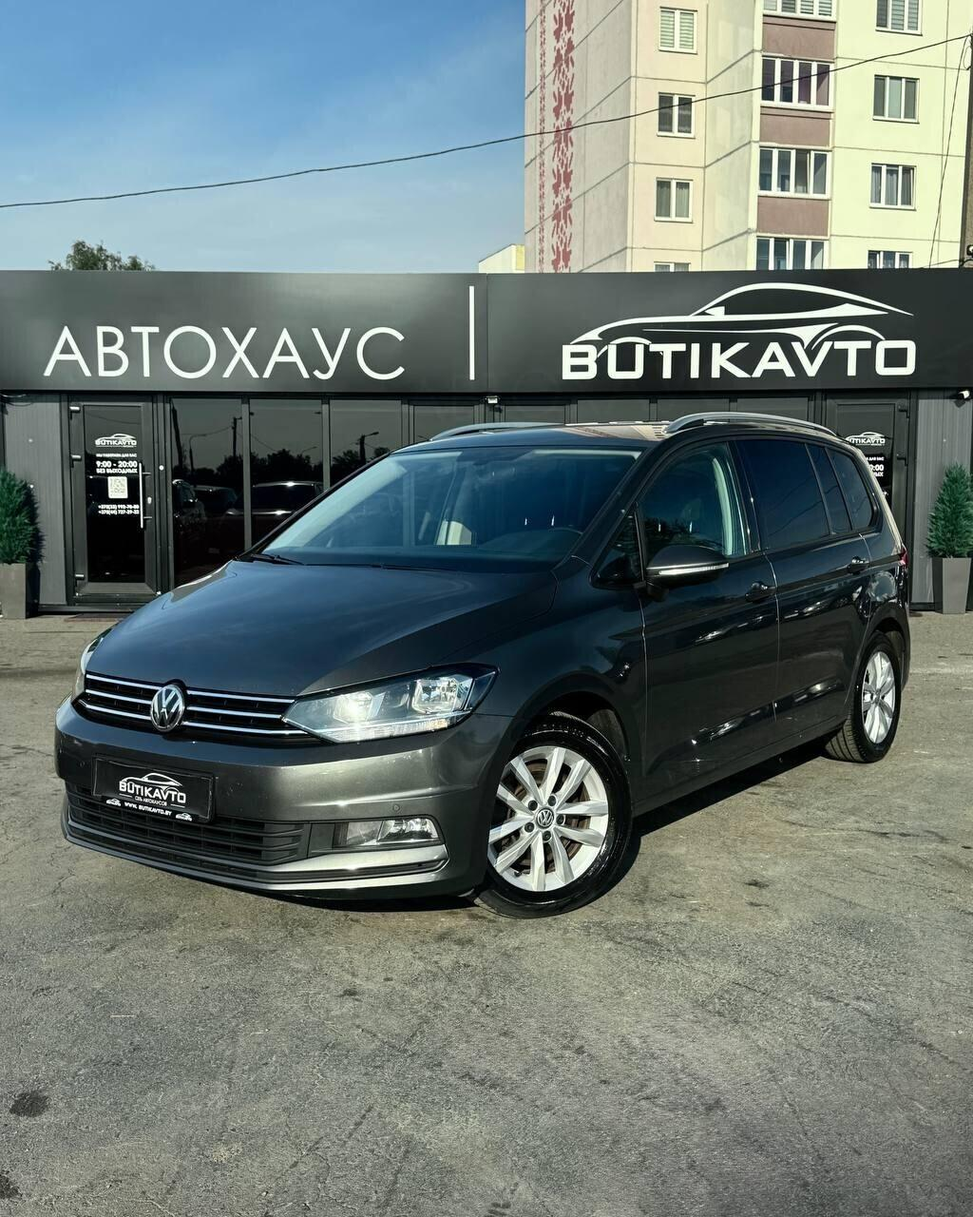Touran_2015: (54, 406, 922, 921)
